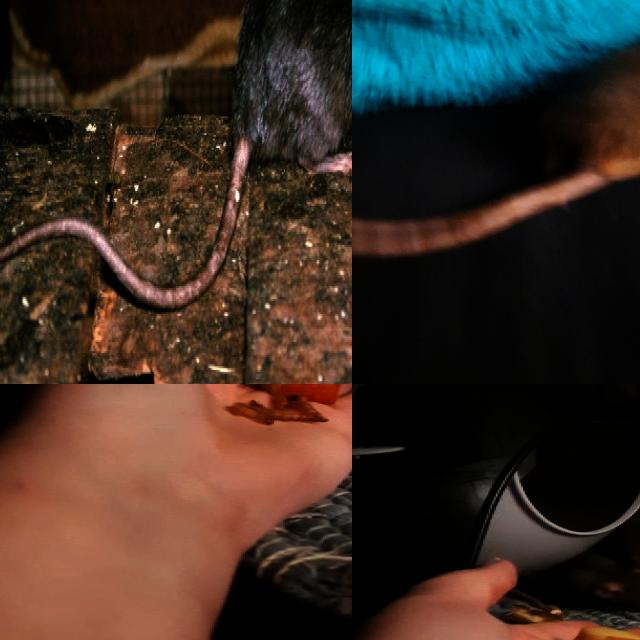rat: (214, 0, 352, 205), (538, 0, 640, 184), (541, 550, 640, 619)
